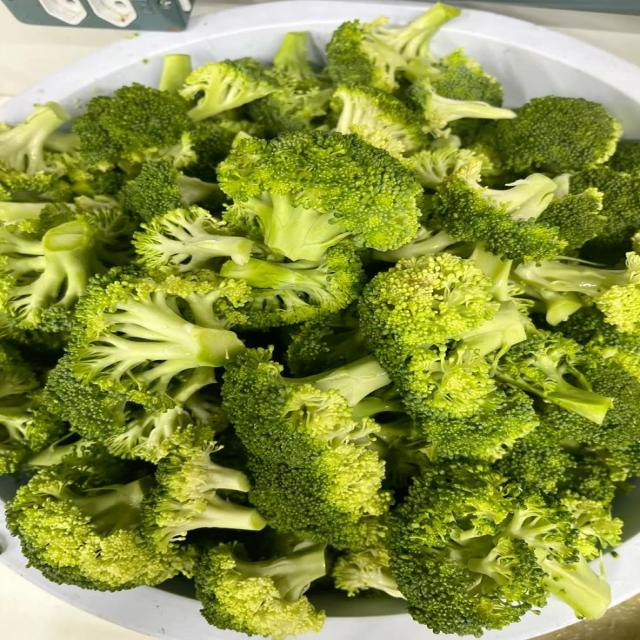broccoli: (389, 460, 610, 636), (360, 254, 536, 459), (222, 350, 390, 548), (7, 448, 193, 590), (219, 131, 421, 260), (69, 268, 249, 407), (44, 357, 227, 463), (360, 254, 499, 367), (142, 428, 266, 551), (220, 240, 364, 328), (0, 209, 104, 330), (195, 543, 326, 639), (434, 168, 566, 261), (497, 407, 616, 506), (327, 3, 459, 91), (495, 331, 613, 424), (407, 380, 538, 461), (74, 84, 194, 170), (514, 252, 639, 332), (492, 96, 621, 173), (559, 356, 639, 480), (247, 32, 333, 135), (0, 344, 65, 474), (134, 207, 258, 272), (332, 86, 428, 158), (497, 408, 577, 494), (570, 166, 639, 264), (121, 159, 222, 221), (556, 306, 639, 380), (180, 58, 277, 121), (406, 80, 516, 135), (327, 19, 406, 91), (286, 306, 367, 376), (186, 113, 266, 182), (405, 50, 502, 106), (247, 74, 333, 135), (374, 2, 459, 61), (0, 102, 69, 174), (538, 188, 606, 252), (427, 49, 502, 106), (76, 199, 138, 266), (121, 159, 183, 221), (404, 148, 491, 190), (332, 547, 403, 598), (373, 226, 466, 262), (0, 162, 76, 202), (274, 32, 317, 80), (159, 54, 191, 94), (0, 201, 47, 225), (607, 140, 639, 174)
